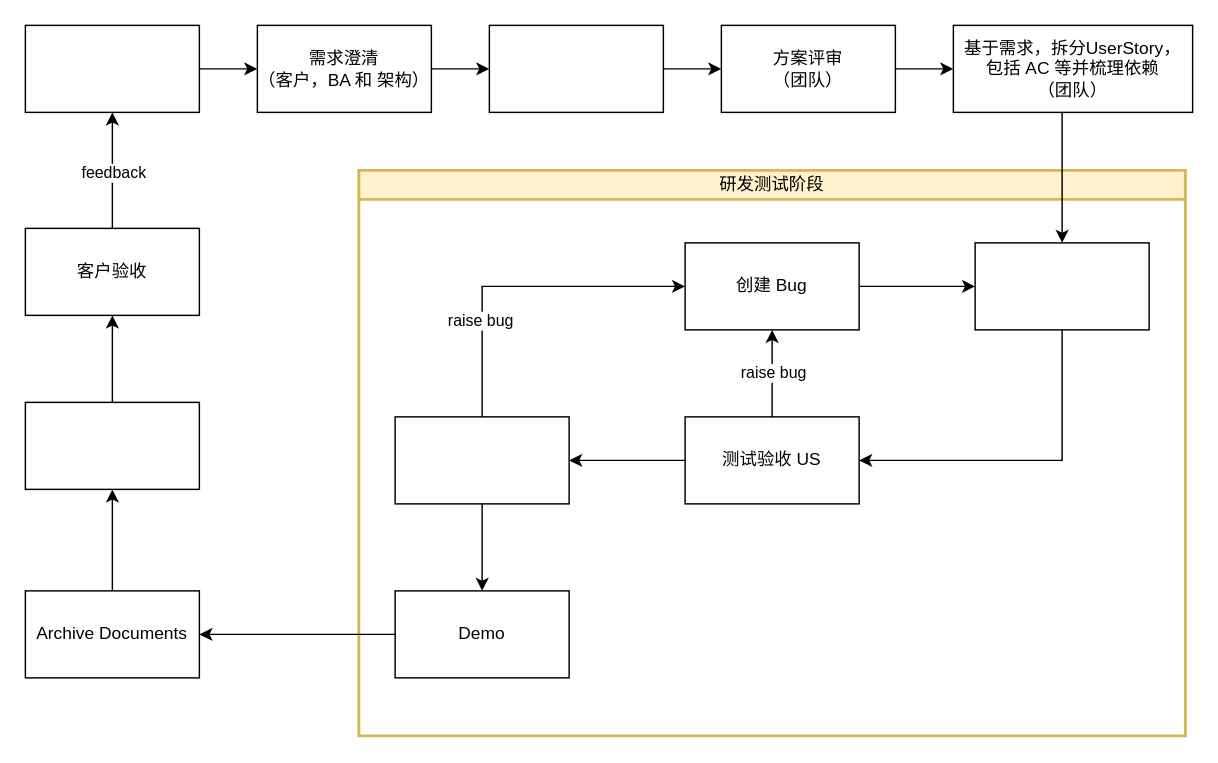
The diagram is 1218 pixels wide and 763 high, and some of its shapes have lost their labels. The box of each missing label's shape, as (x1, y1, x2, y2) in pixels:
Release: (24, 401, 199, 489)
对 US 进行开发 或对 Bug 进行修复: (974, 241, 1149, 330)
所有 US 完成后 进行 E2E 测试验收: (394, 415, 569, 504)
提出需求/feature （客户）: (24, 24, 199, 112)
方案设计 （架构）: (488, 24, 663, 112)
